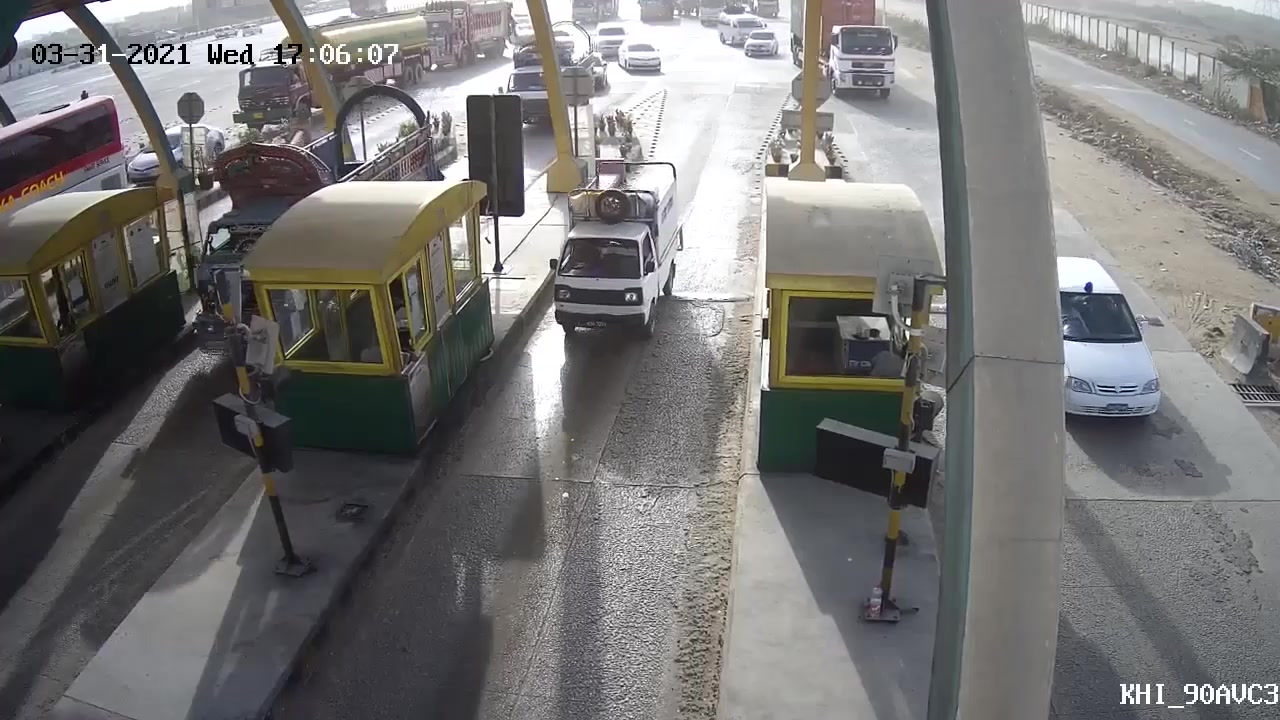F1: (537, 144, 687, 340)
